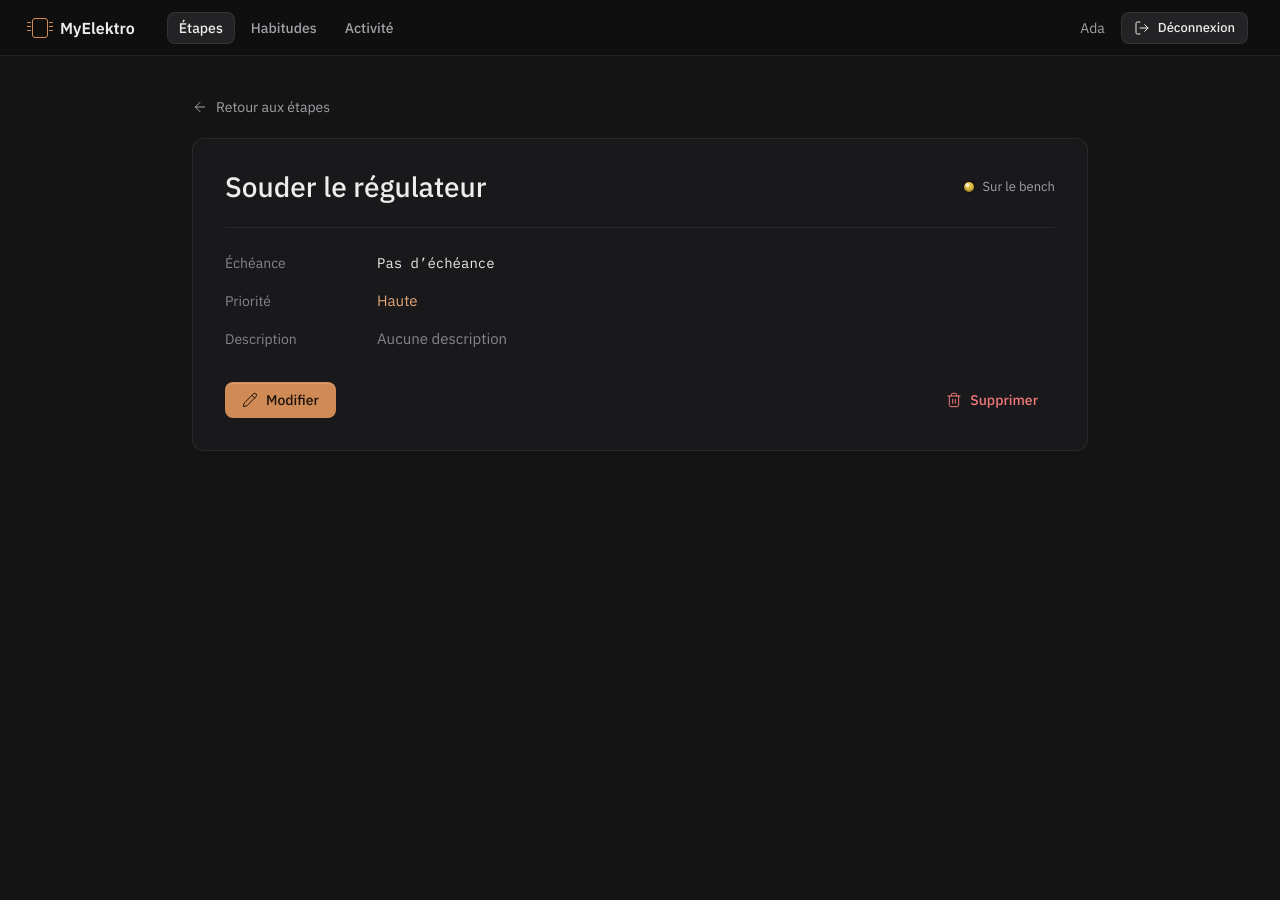
it: détail › demande confirmation avant de supprimer
The width and height of the screenshot is (1280, 900).
Click the button "Supprimer" at (992, 400), box [929, 382, 1055, 418]
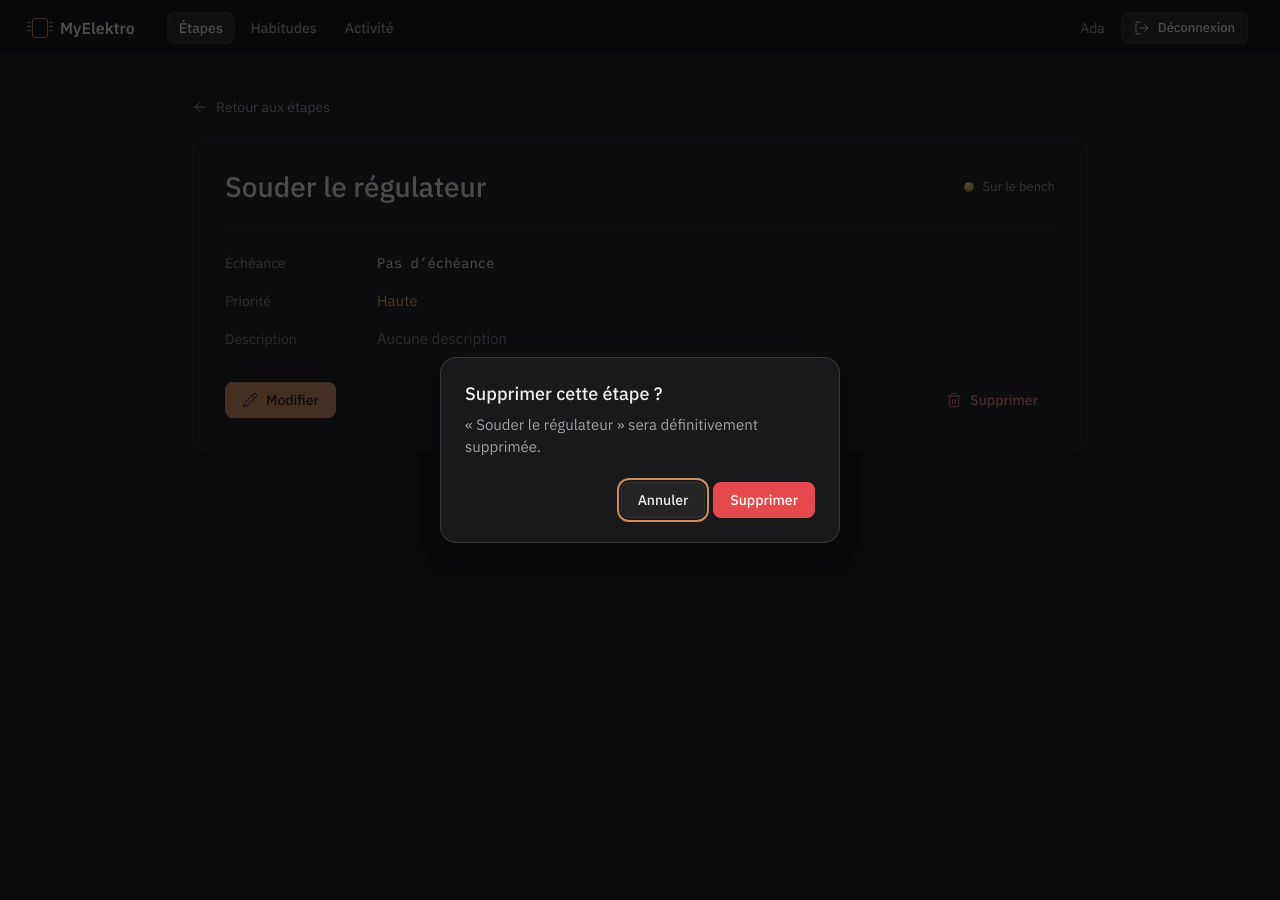
Click the button "Supprimer" at (764, 500), box [713, 482, 815, 518]
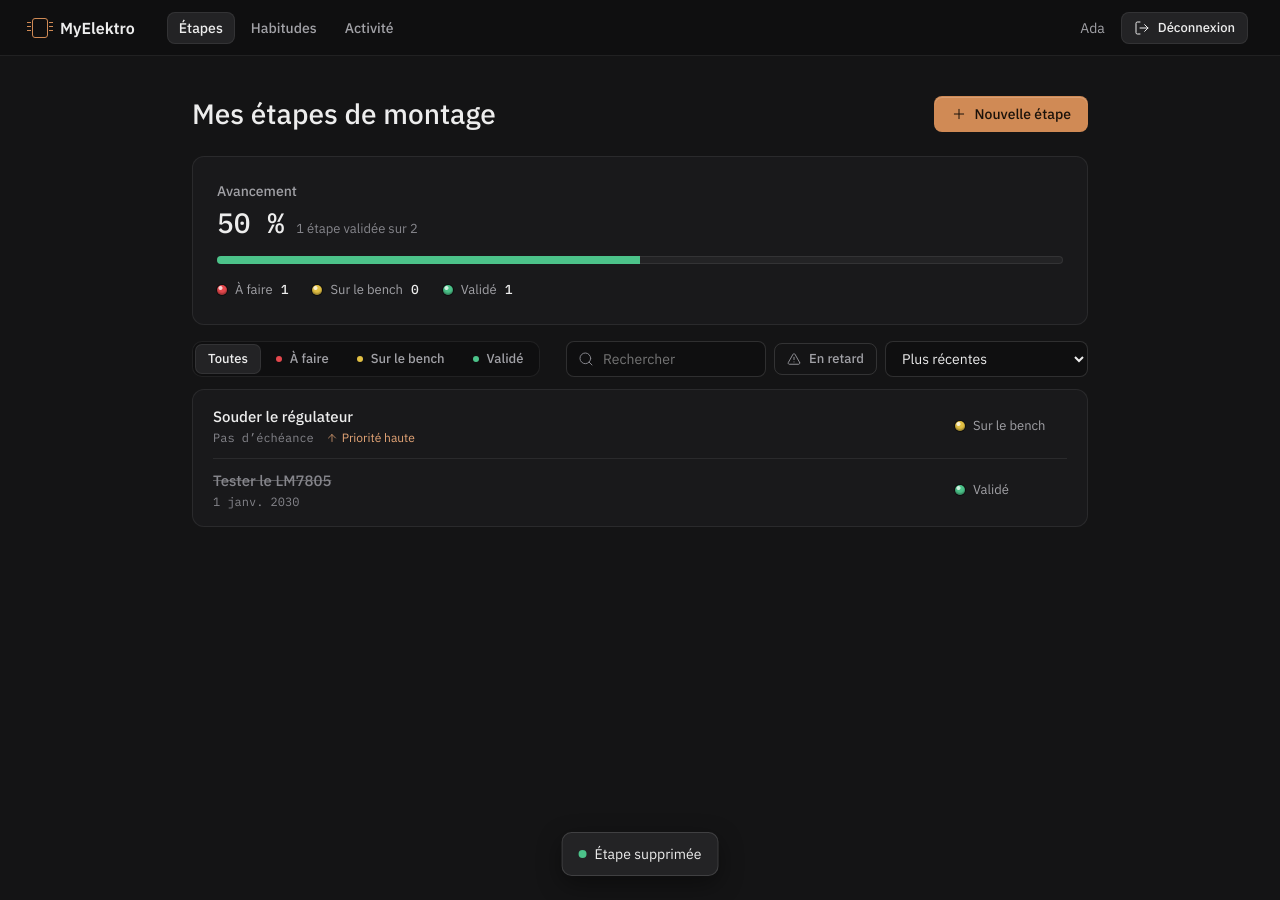
Expected: the text "Étape supprimée" is shown, [562, 832, 718, 876]
